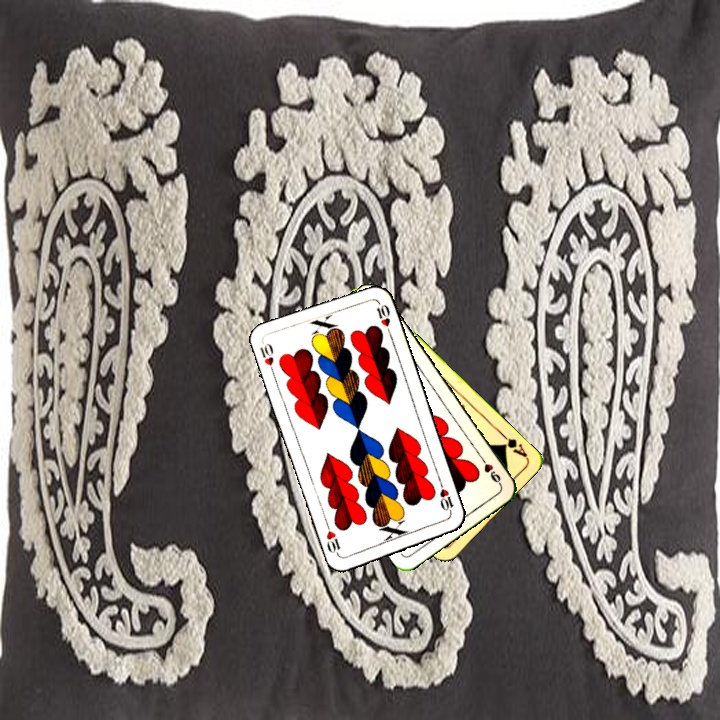GA: (496, 428, 530, 460)
H10: (256, 339, 278, 378), (436, 478, 456, 518)
H9: (476, 452, 504, 487)
